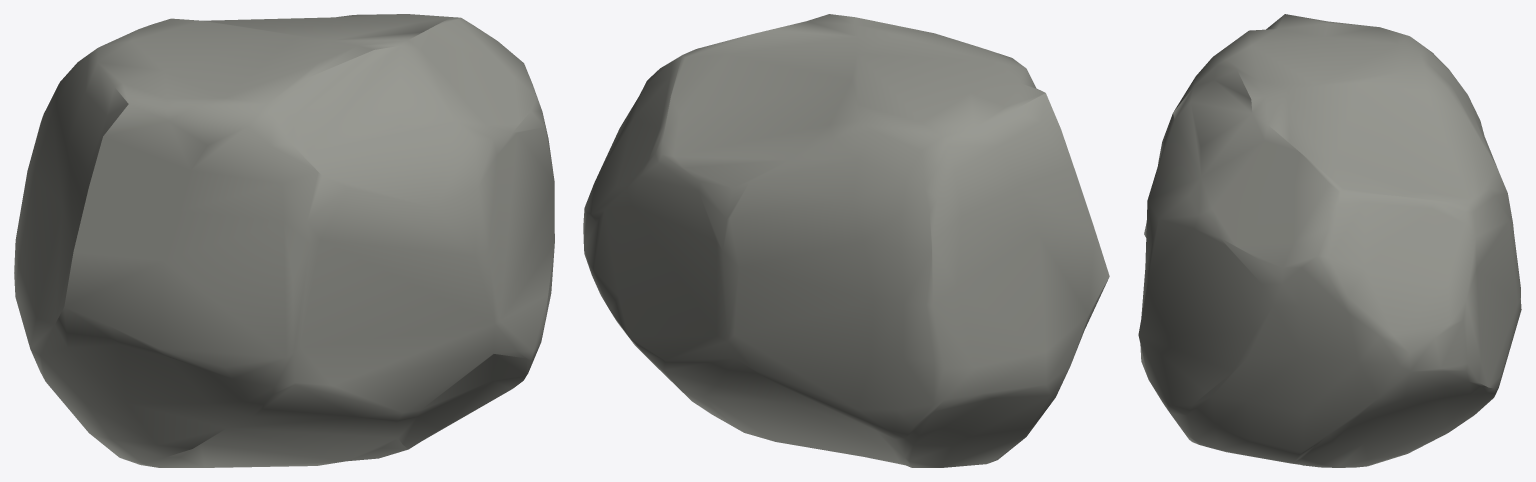
Rendered from quaternius-pirate-environment-rock-3.glb.
3 renders of one model, left to right at view 1: azimuth 30°, elevation 25°; view 2: azimuth 150°, elevation 25°; view 3: azimuth 270°, elevation 25°, orthographic. The views are drawn at different scales.
Visible parts, largest first — view 1: Environment_Rock_3; view 2: Environment_Rock_3; view 3: Environment_Rock_3.
Boxes of the visible parts, bbox=[...] form: Environment_Rock_3: bbox=[14, 14, 554, 467]; Environment_Rock_3: bbox=[583, 14, 1109, 467]; Environment_Rock_3: bbox=[1138, 14, 1521, 467].
Size of the model in its own units: 0.77 by 0.6118 by 0.5839.
Materials: 1 (1 with a texture image).
